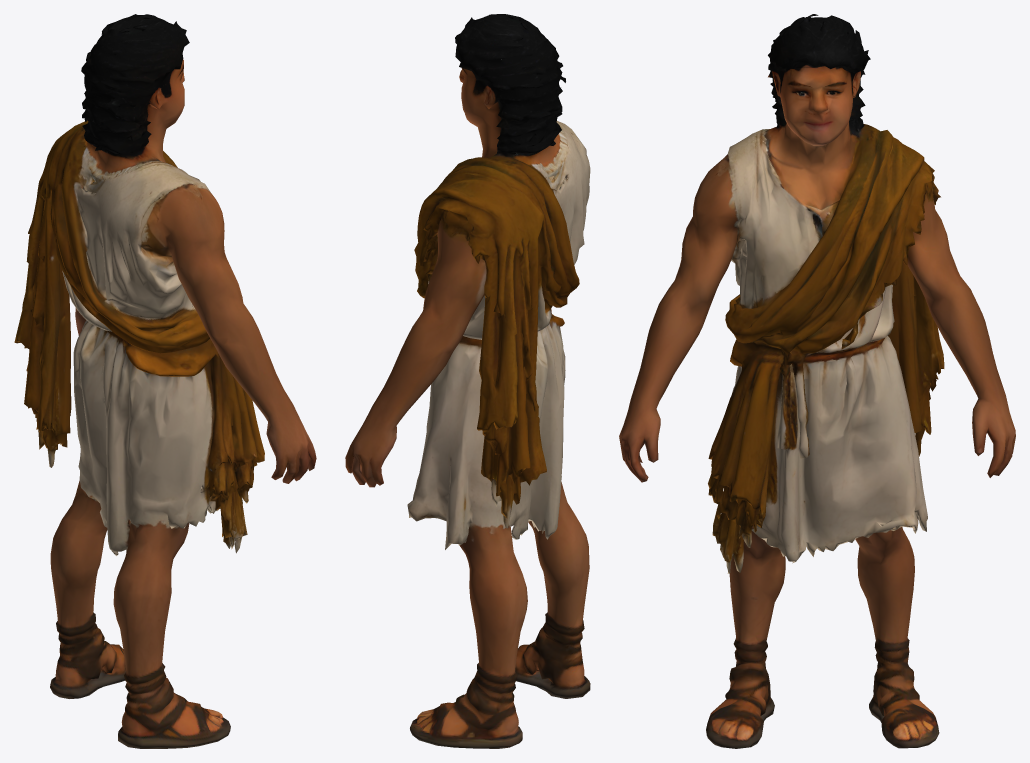
The model's file is tobious-model-cartoon.glb.
3 renders of one model, left to right at view 1: azimuth 30°, elevation 25°; view 2: azimuth 150°, elevation 25°; view 3: azimuth 270°, elevation 25°, orthographic. The views are drawn at different scales.
Parts seen in each view (by area): view 1: tripo_node_993dd6b7-0d01-4524-aaf9-72d3c1eb034d; view 2: tripo_node_993dd6b7-0d01-4524-aaf9-72d3c1eb034d; view 3: tripo_node_993dd6b7-0d01-4524-aaf9-72d3c1eb034d.
Part boxes in pixels (bbox=[...]): tripo_node_993dd6b7-0d01-4524-aaf9-72d3c1eb034d: bbox=[14, 14, 316, 748]; tripo_node_993dd6b7-0d01-4524-aaf9-72d3c1eb034d: bbox=[345, 14, 590, 748]; tripo_node_993dd6b7-0d01-4524-aaf9-72d3c1eb034d: bbox=[619, 14, 1015, 748].
Size of the model in its own units: 0.2434 by 0.9988 by 0.5079.
1 material, 1 textured.
